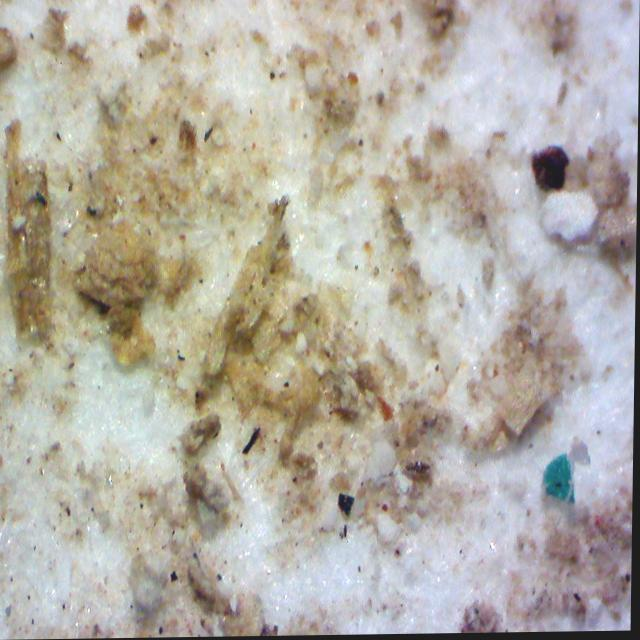microplastic: (543, 448, 579, 509)
